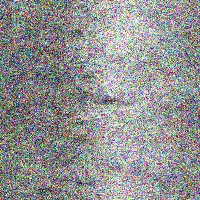rolled-in_scale: (37, 32, 101, 180)
